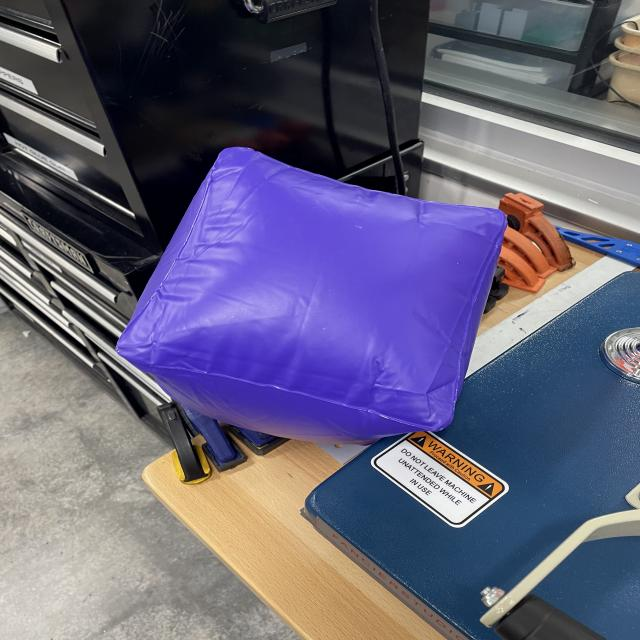frc_cube: (114, 142, 508, 438)
